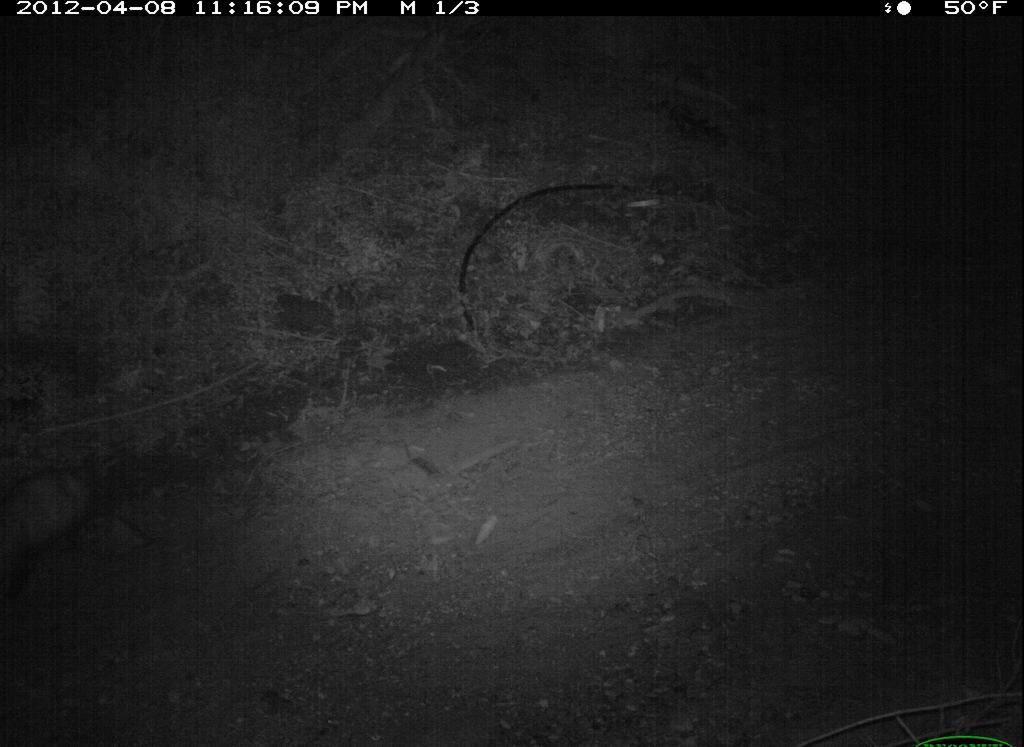opossum: (1, 457, 107, 592)
